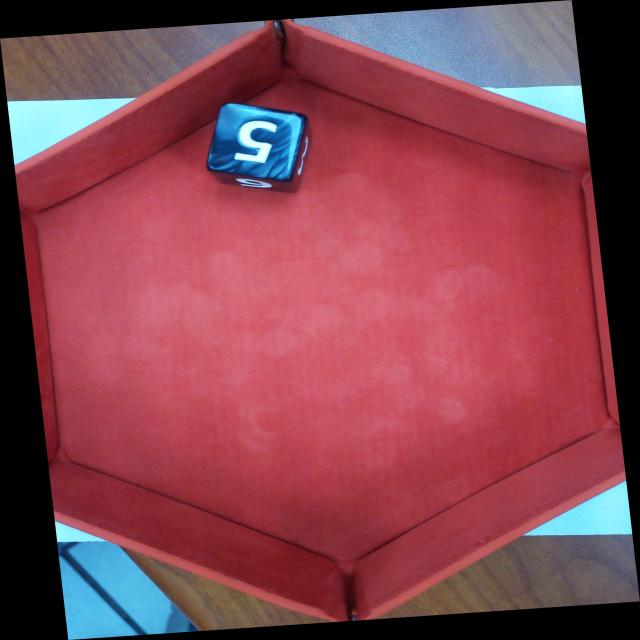dice: (200, 101, 307, 184)
